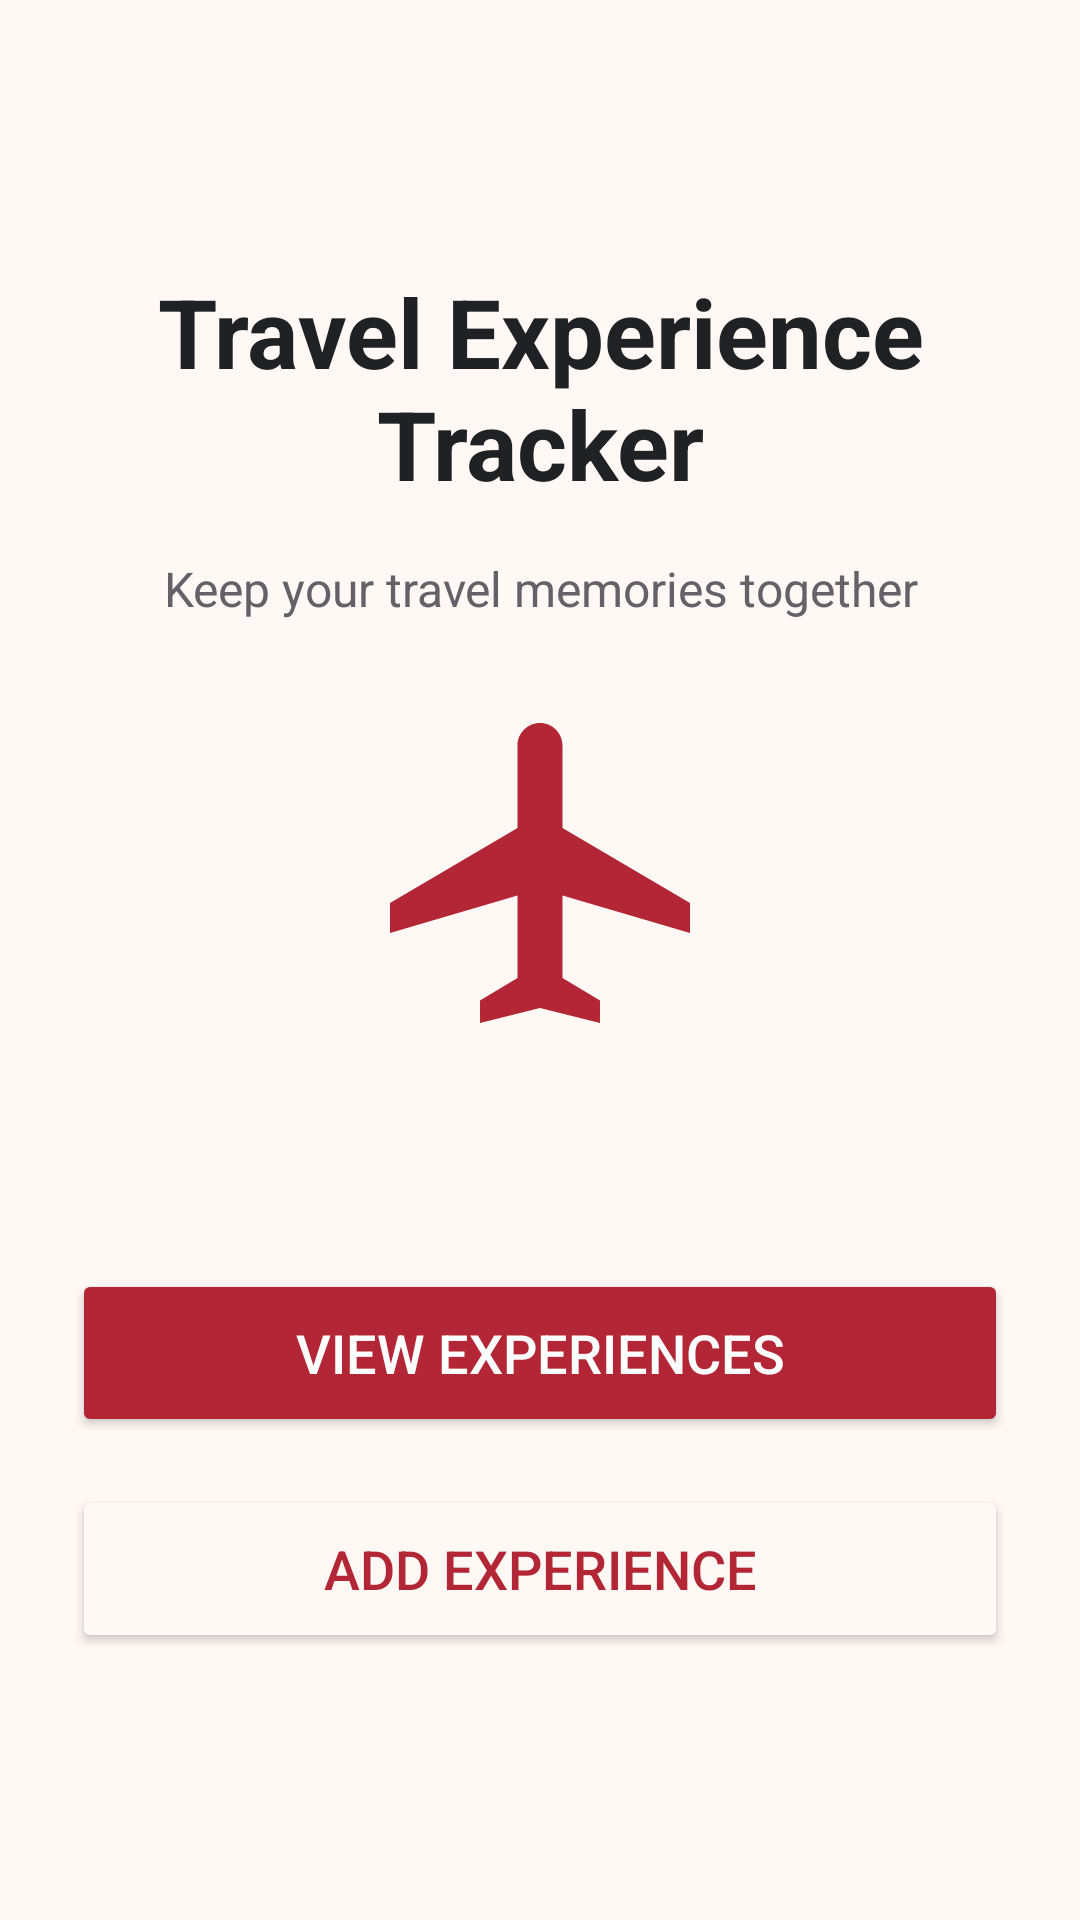

Screen size 1080 × 1920. Icon name, then its box in pixels as (x1, y1, x2, y2):
airplane: (390, 723, 690, 1023)
